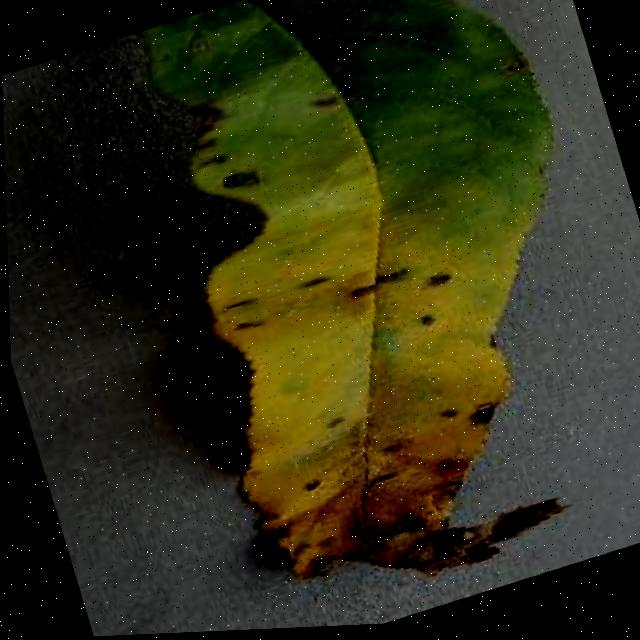Bacterial_spot: (109, 0, 630, 635)
